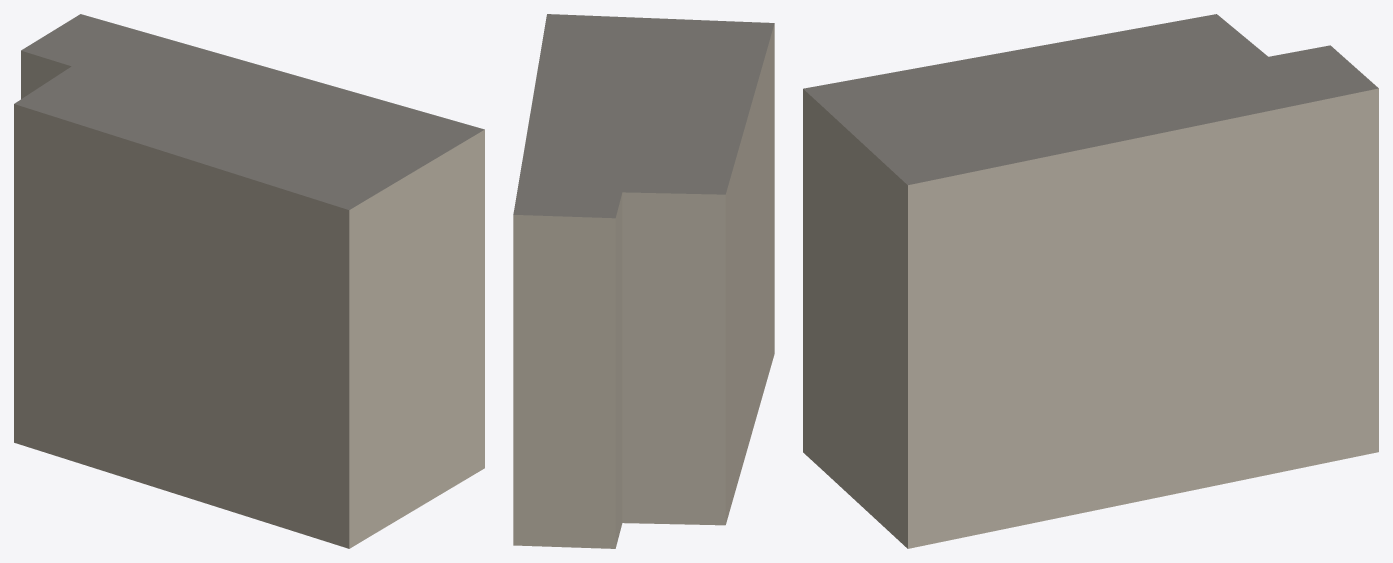
3 views of the same model, side by side, from view 1: azimuth 30°, elevation 25°; view 2: azimuth 150°, elevation 25°; view 3: azimuth 270°, elevation 25° (orthographic). The views are drawn at different scales.
Visible parts, largest first — view 1: HP-w1198530146; view 2: HP-w1198530146; view 3: HP-w1198530146.
Part boxes in pixels (x1,y1,x2,y2): HP-w1198530146: (14, 14, 484, 548); HP-w1198530146: (513, 14, 774, 548); HP-w1198530146: (803, 14, 1378, 548).
Size of the model in its own units: 18.18 by 18 by 25.83.
